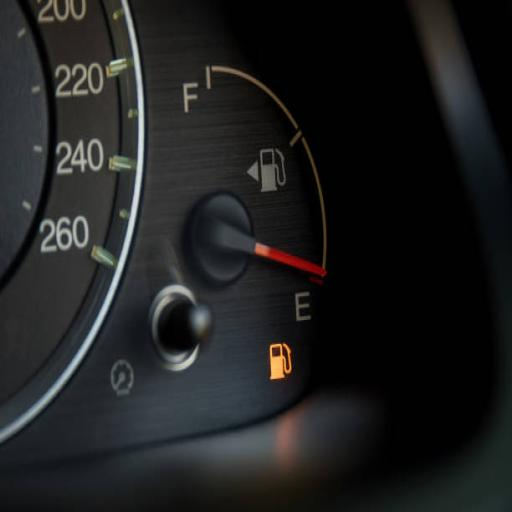empty: (293, 288, 312, 326)
fuel_icon: (259, 144, 289, 192)
full: (182, 78, 200, 114)
guage_area: (170, 39, 344, 412)
needle_center: (188, 192, 261, 288)
needle_tip: (310, 260, 328, 279)
